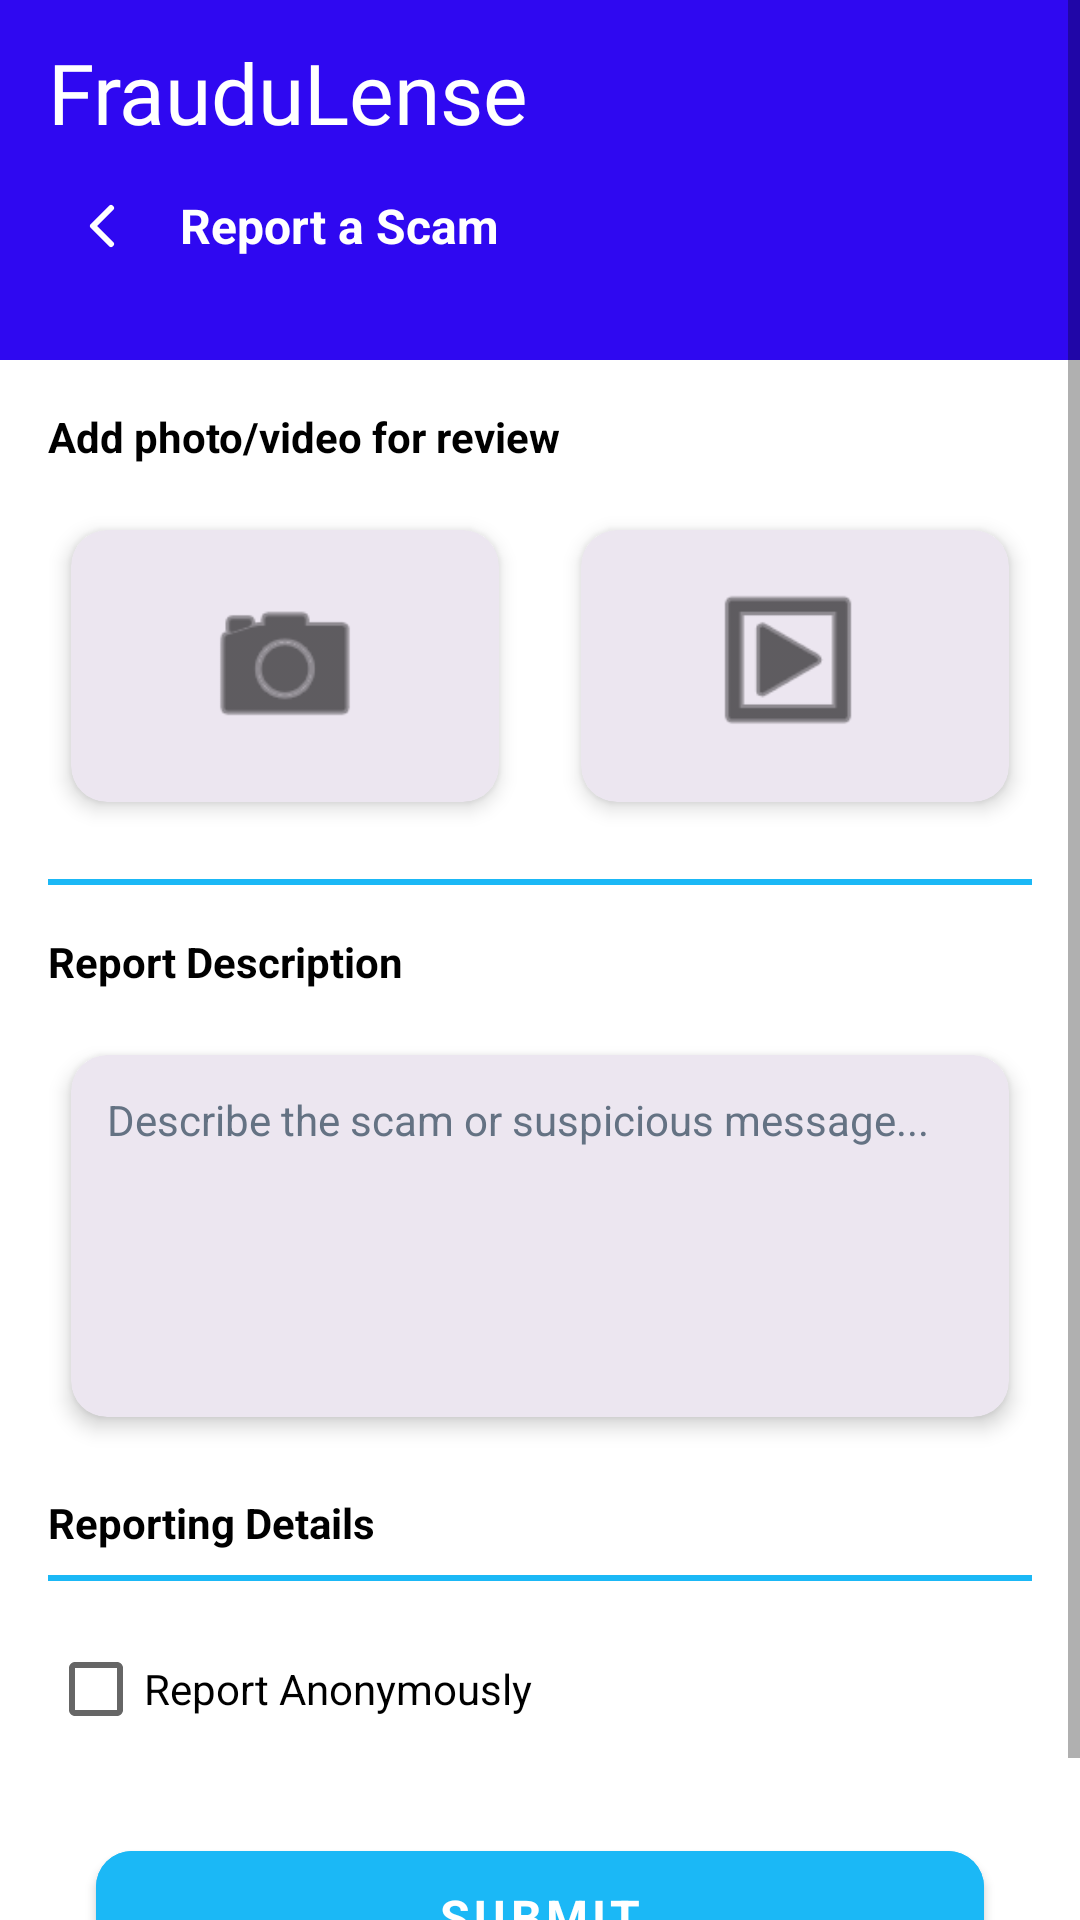

Named icons in this screenshot (1080 x 1920) and their bounding boxes, (x1=x1, y1=y1, x2=x2, y2=y2):
Back: (x1=90, y1=205, x2=114, y2=247)
camera: (x1=220, y1=612, x2=350, y2=715)
slideshow: (x1=725, y1=596, x2=851, y2=724)
